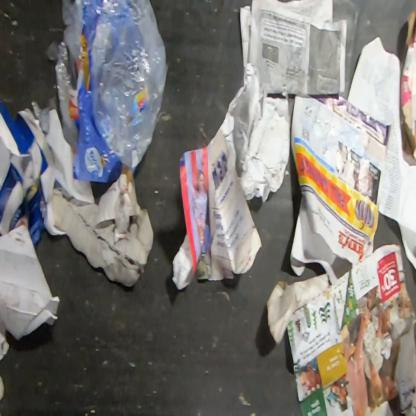cardboard: (53, 170, 155, 288), (0, 101, 56, 247), (266, 271, 330, 347), (399, 6, 415, 165)
soft_plastic: (43, 0, 170, 185), (30, 100, 50, 136)
